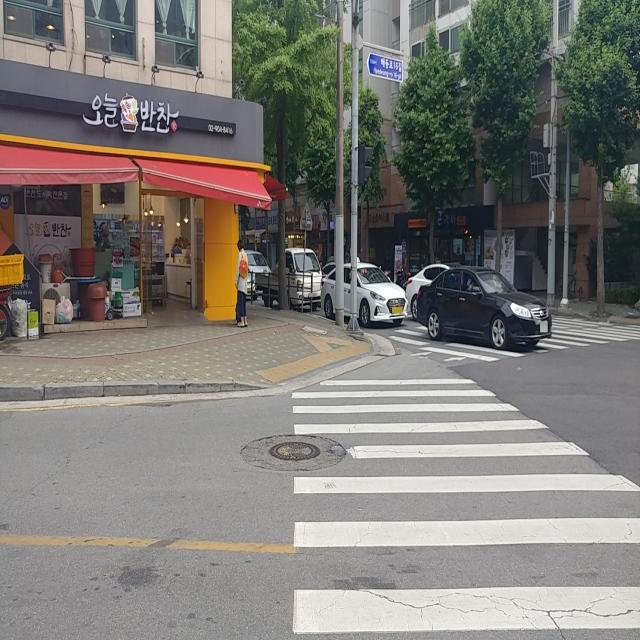횡단보도: (290, 374, 640, 640), (383, 306, 640, 366)
